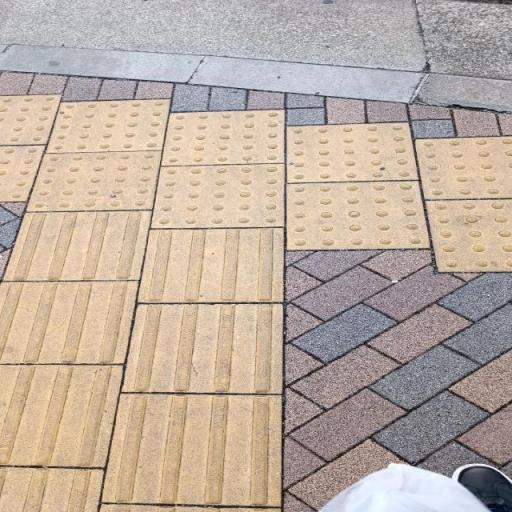dot: (284, 180, 428, 249), (151, 163, 286, 228), (24, 151, 162, 211), (287, 122, 420, 182), (161, 111, 286, 167), (43, 100, 171, 151)
line: (101, 391, 283, 506), (121, 303, 282, 395), (0, 279, 137, 368), (139, 228, 286, 305), (0, 210, 150, 280)
